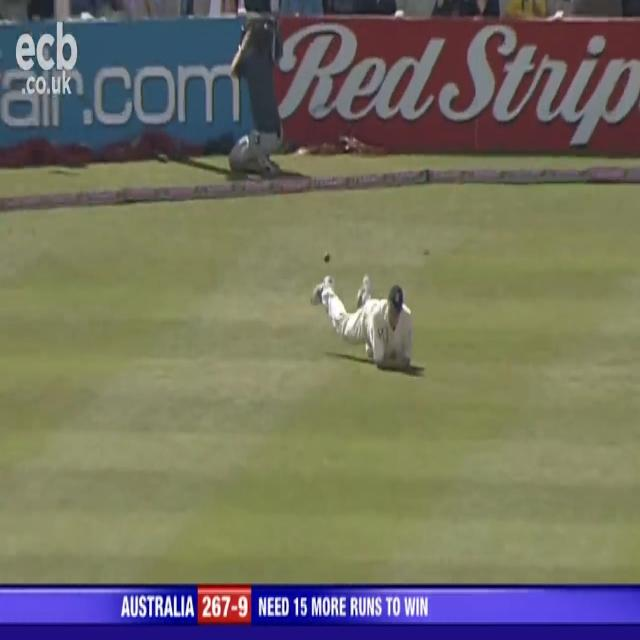ball: (322, 248, 331, 267)
